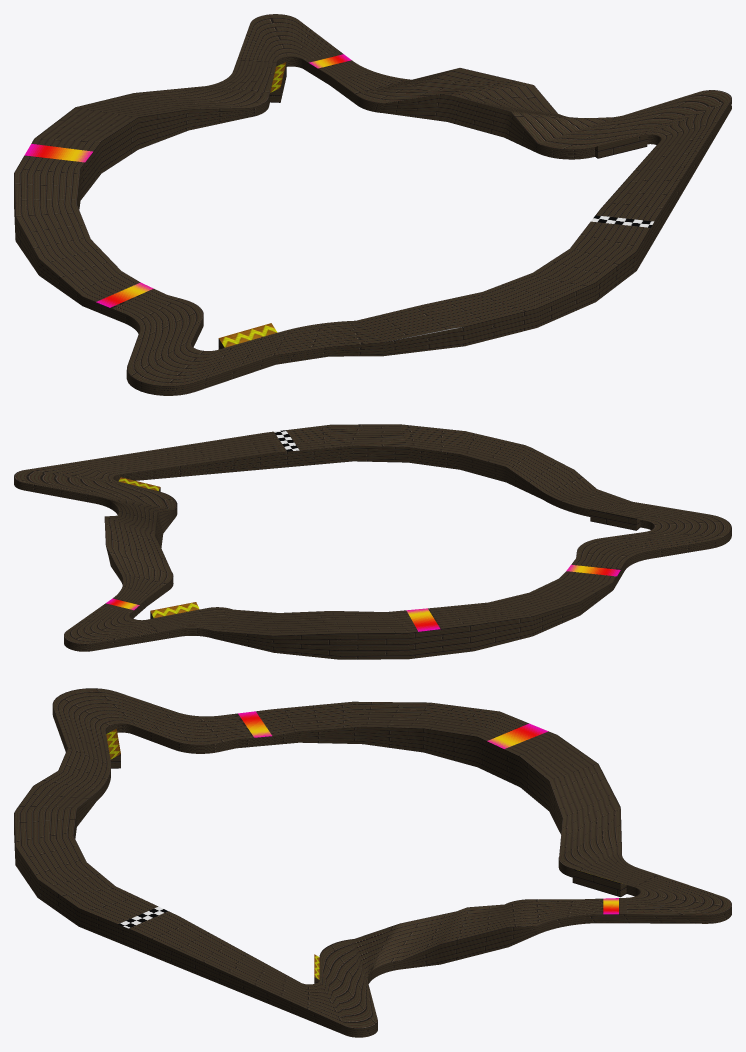
3 renders of one model, top to bottom at view 1: azimuth 30°, elevation 25°; view 2: azimuth 150°, elevation 25°; view 3: azimuth 270°, elevation 25°, orthographic. The views are drawn at different scales.
Visible parts, largest first — view 1: course-SKP--Material1.017, course-SKP--Material2.017, course-SKP--Material5.015, course-SKP--Material4.013; view 2: course-SKP--Material1.017, course-SKP--Material2.017, course-SKP--Material5.015, course-SKP--Material4.013; view 3: course-SKP--Material1.017, course-SKP--Material2.017, course-SKP--Material5.015.
Part boxes in pixels (x1,y1,x2,y2): course-SKP--Material1.017: (14,14,731,395); course-SKP--Material2.017: (24,54,351,307); course-SKP--Material5.015: (218,62,647,349); course-SKP--Material4.013: (219,62,286,347); course-SKP--Material1.017: (14,424,731,659); course-SKP--Material2.017: (106,564,620,631); course-SKP--Material5.015: (150,487,640,618); course-SKP--Material4.013: (118,477,199,618); course-SKP--Material1.017: (14,688,731,1037); course-SKP--Material2.017: (238,711,618,914); course-SKP--Material5.015: (110,754,626,983).
Bounding box in the file's own units: 55730 × 2336 × 49669.
7 materials, 6 textured.
